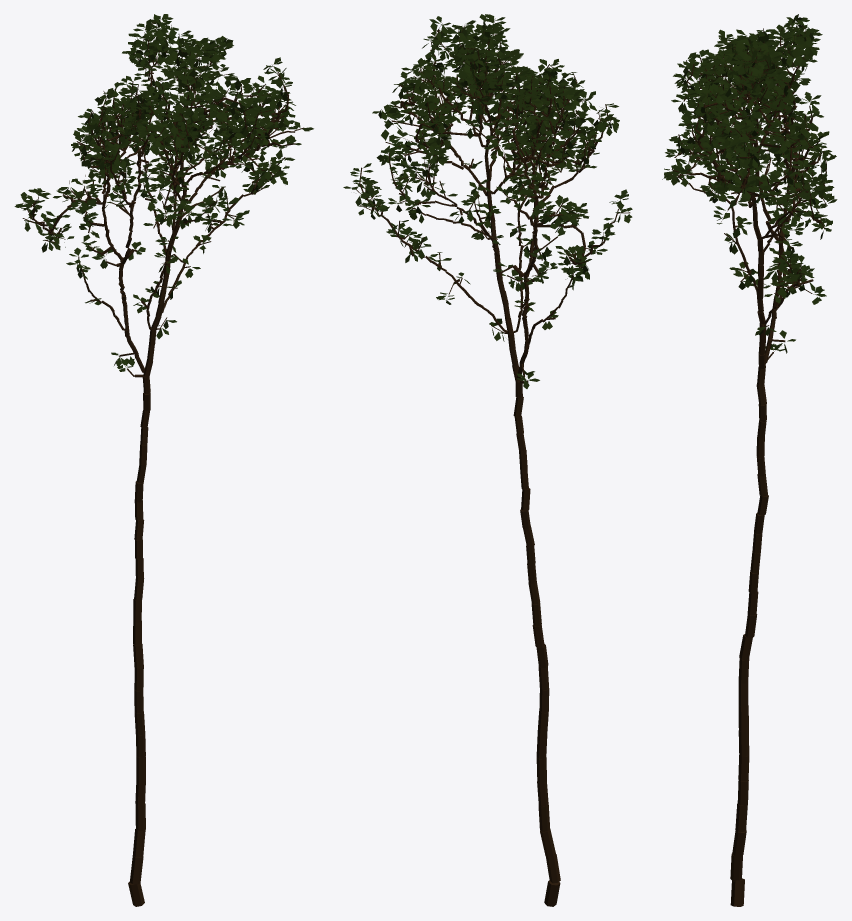
The model's file is 2022_tree_364.obj.
3 views of the same model, side by side, from view 1: azimuth 30°, elevation 25°; view 2: azimuth 150°, elevation 25°; view 3: azimuth 270°, elevation 25° (orthographic). The views are drawn at different scales.
Parts seen in each view (by area): view 1: Leaves, TrunkAndBranches; view 2: Leaves, TrunkAndBranches; view 3: Leaves, TrunkAndBranches.
Boxes of the visible parts, x1,y1,x2,y2 form: Leaves: [14, 14, 313, 371]; TrunkAndBranches: [22, 21, 303, 906]; Leaves: [343, 14, 632, 388]; TrunkAndBranches: [356, 18, 630, 906]; Leaves: [662, 14, 837, 353]; TrunkAndBranches: [670, 22, 826, 906].
Bounding box in the file's own units: 8.07 × 24.09 × 4.2.
